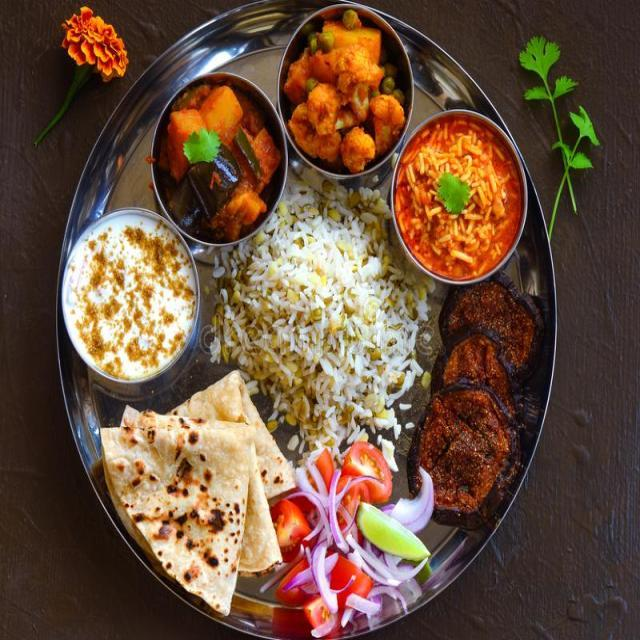curd: (58, 213, 198, 391)
rice: (218, 200, 409, 449)
roti: (107, 378, 280, 602)
veg-fry: (395, 120, 527, 284)
